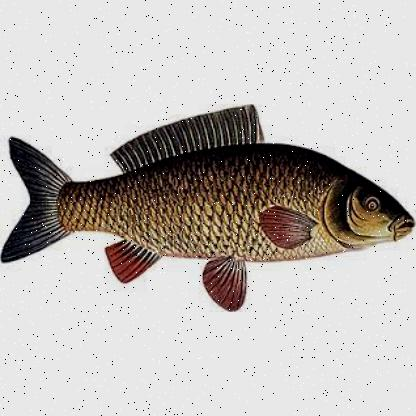ikan-mas: (2, 112, 414, 292)
